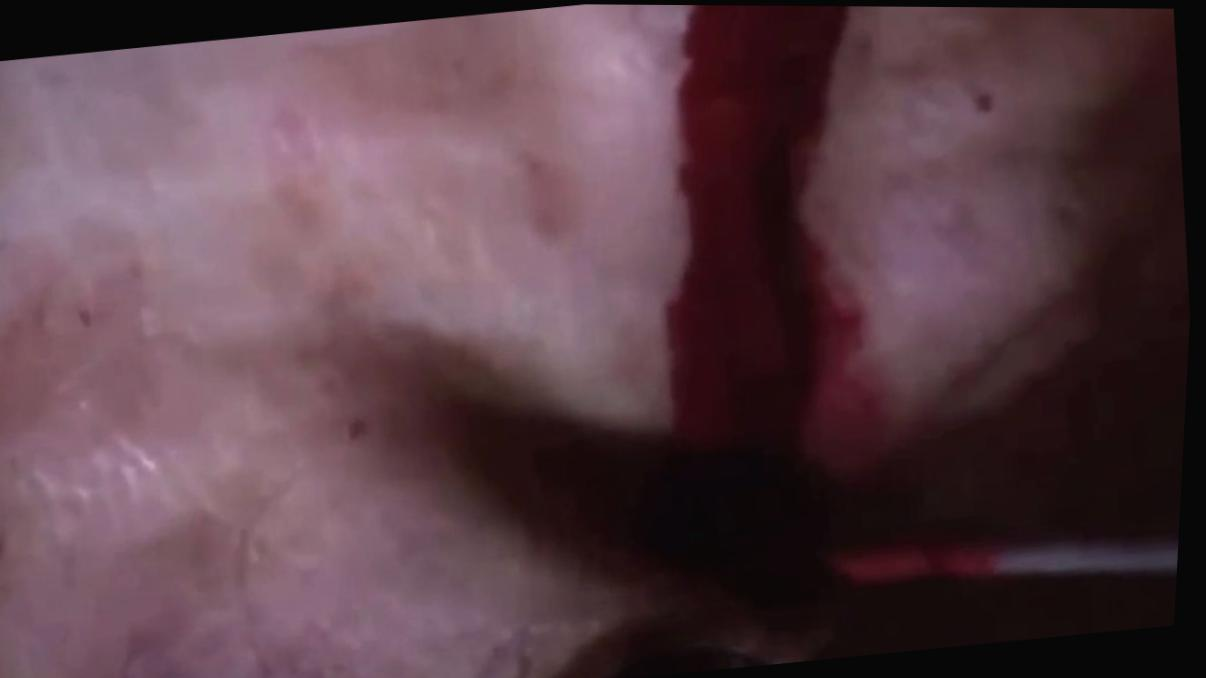Fire: (647, 4, 1171, 618)
